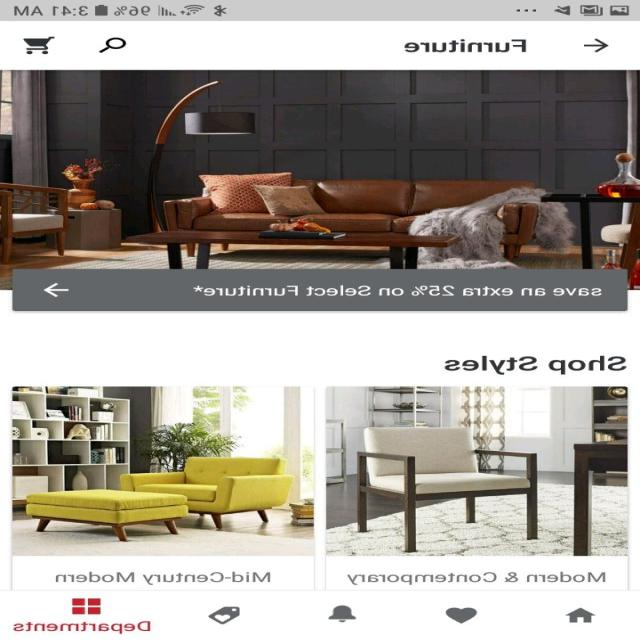Icon: (23, 36, 56, 55), (208, 605, 241, 624), (446, 606, 478, 624), (564, 606, 596, 623), (328, 604, 358, 622), (99, 37, 128, 54), (72, 598, 102, 614), (44, 282, 70, 298), (584, 38, 610, 52)
Image: (1, 70, 640, 290), (326, 386, 628, 555), (13, 386, 314, 555)
Text: (193, 285, 602, 296), (444, 355, 628, 375), (346, 571, 606, 585), (56, 571, 271, 585), (13, 620, 152, 634), (404, 38, 528, 52)
